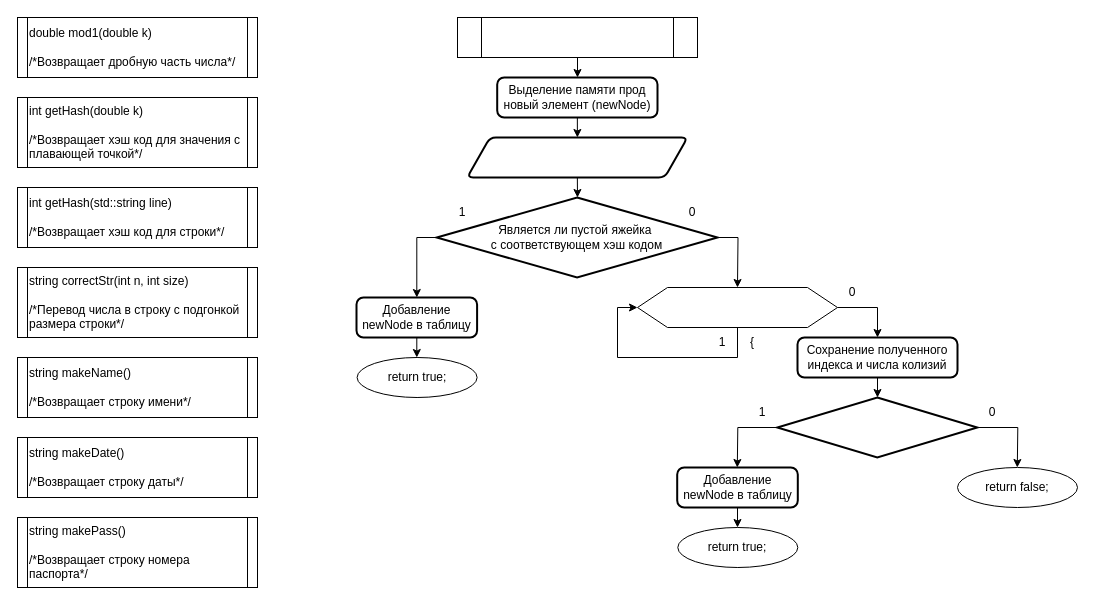
The diagram is 1095 pixels wide and 605 high, and some of its shapes have lost their labels. Each missing label, with the centre of its shape:
"bool add(HashTableLinear& table, string key, string custData)" goes at [577,37].
"Поиск пустой ячейки в таблице" goes at [737,307].
"Получение хэш кода (hash) по введеному ключу (key)" goes at [577,157].
"Является ли корректным полученный индекс" goes at [877,427].
